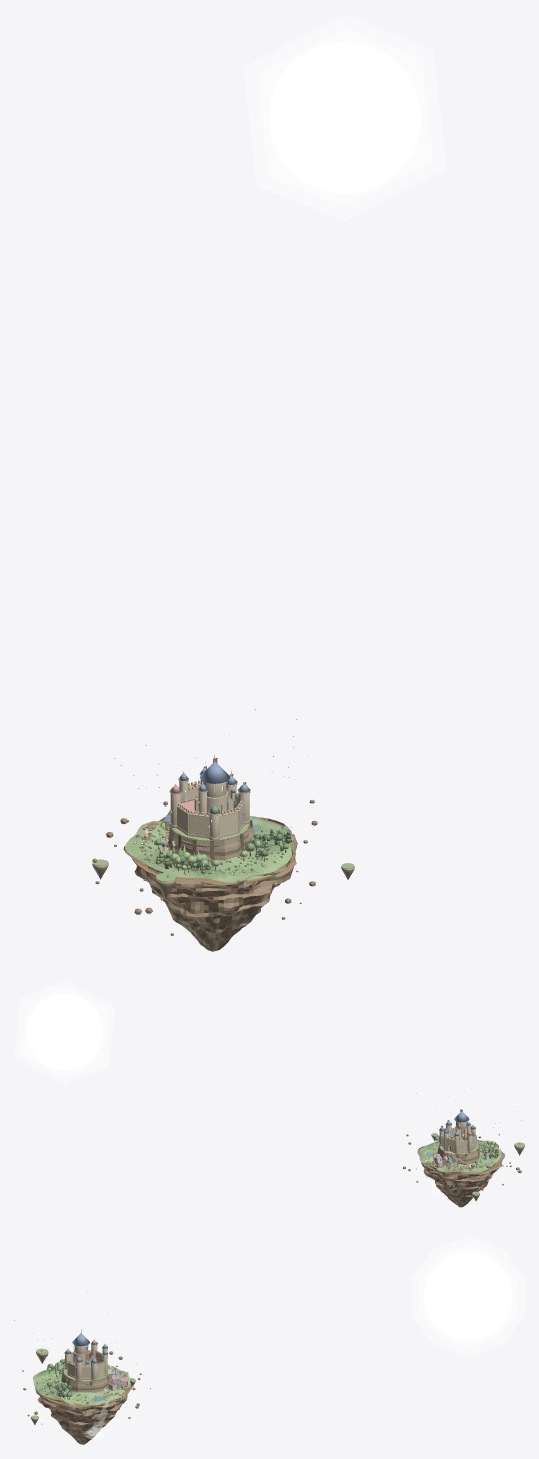
3 renders of one model, top to bottom at view 1: azimuth 30°, elevation 25°; view 2: azimuth 150°, elevation 25°; view 3: azimuth 270°, elevation 25°, orthographic. The views are drawn at different scales.
Visible parts, largest first — view 1: 月晕, 月亮, 岩体, 草甸, 林木; view 2: 月晕, 月亮, 岩体, 草甸; view 3: 月晕, 月亮, 岩体, 草甸, 林木.
Part boxes in pixels (x1,y1,x2,y2): 月晕: (243,14,446,220); 月亮: (269,41,420,193); 岩体: (123,817,297,951); 草甸: (125,816,293,882); 林木: (154,826,292,874); 月晕: (14,980,115,1083); 月亮: (26,994,102,1070); 岩体: (417,1140,504,1207); 草甸: (419,1140,501,1171); 月晕: (412,1236,524,1356); 月亮: (424,1252,512,1340); 岩体: (33,1374,133,1444); 草甸: (33,1364,130,1405); 林木: (47,1358,71,1399).
Bounding box in the file's own units: 237 × 203 × 276.
